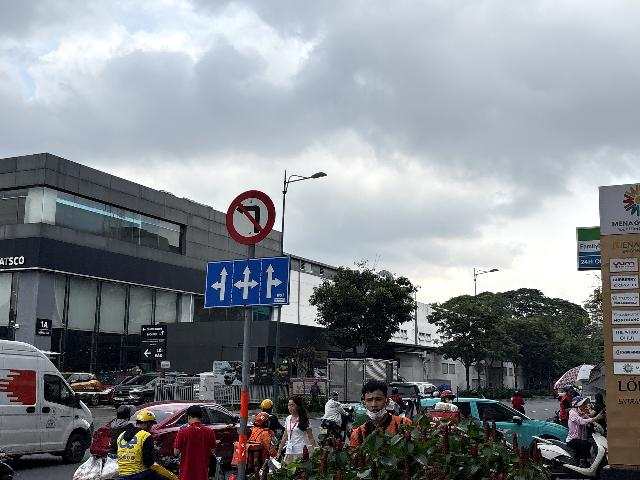cam-re-trai: (225, 190, 276, 245)
